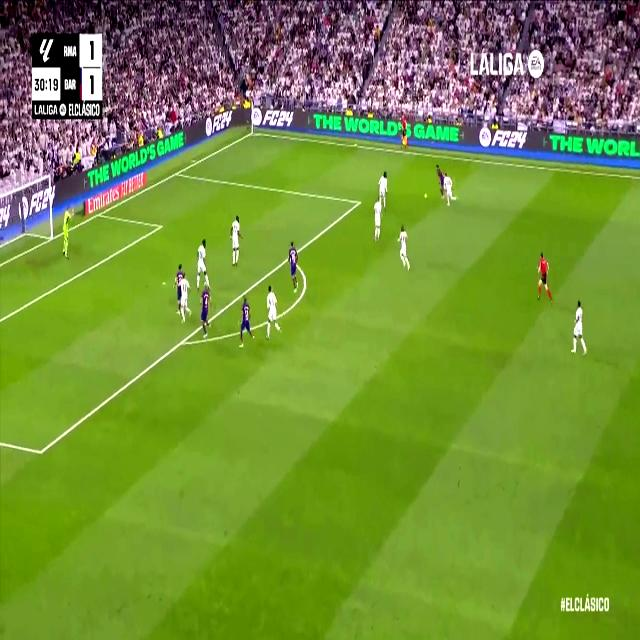bigarea_bottom_inner: (35, 437, 46, 465)
bigarea_top_inner: (354, 193, 362, 211)
bigarea_top_outter: (173, 165, 181, 179)
bottom_arc_area_intersection: (178, 332, 187, 350)
corner: (248, 127, 256, 137)
smallarea_top_inner: (157, 219, 163, 232)
